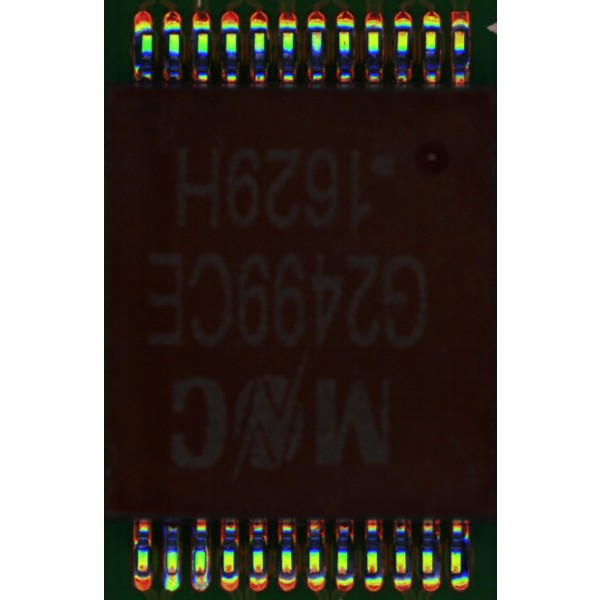Bad_qiaojiao: (190, 543, 195, 574), (205, 545, 209, 573)
